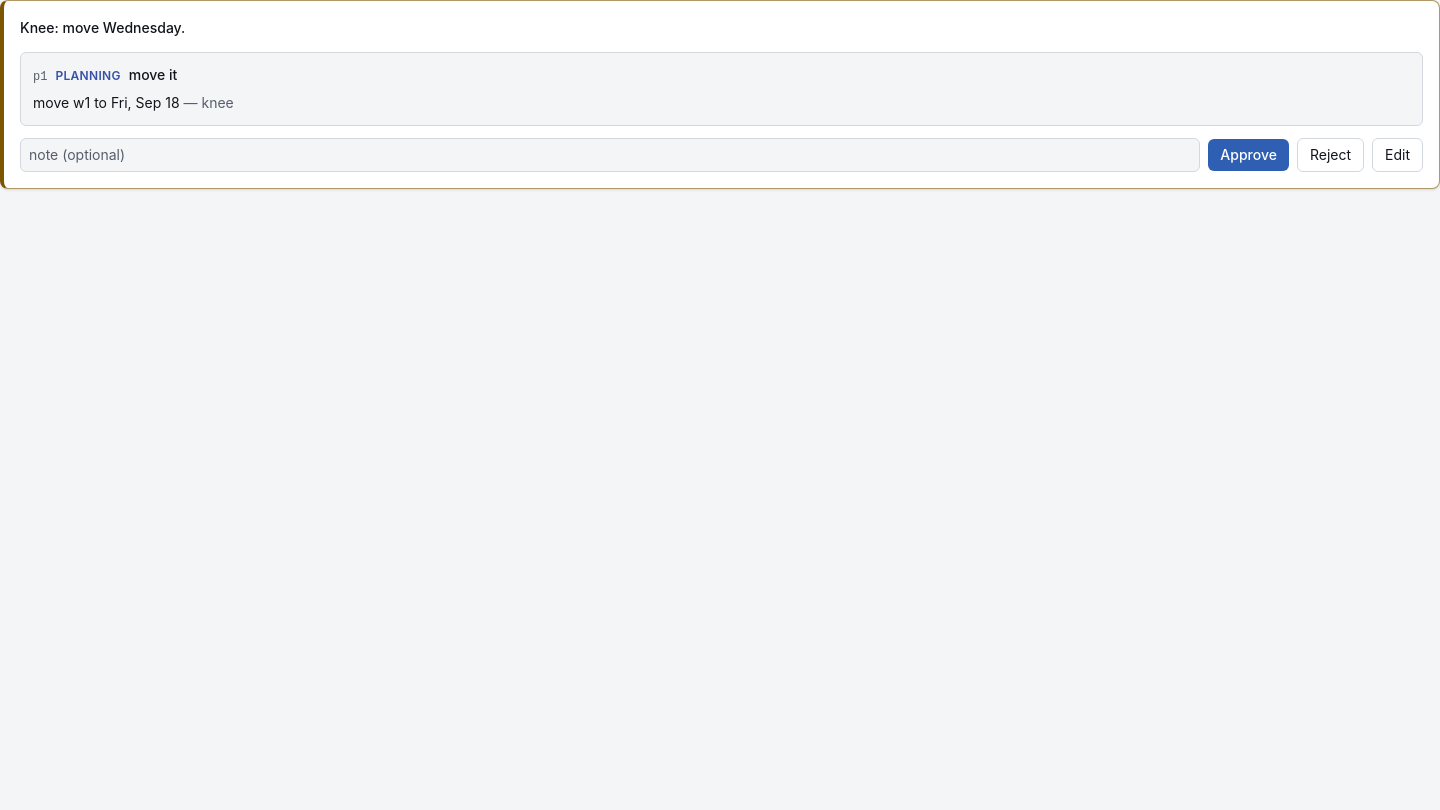
Scenario: a 422 on Send edited shows the server's errors under the matching field and the refusal
What coordinates should you click on to do the following:
click the button "Edit"
I would click on:
 (1398, 155)
Its box is [1372,138,1423,172].
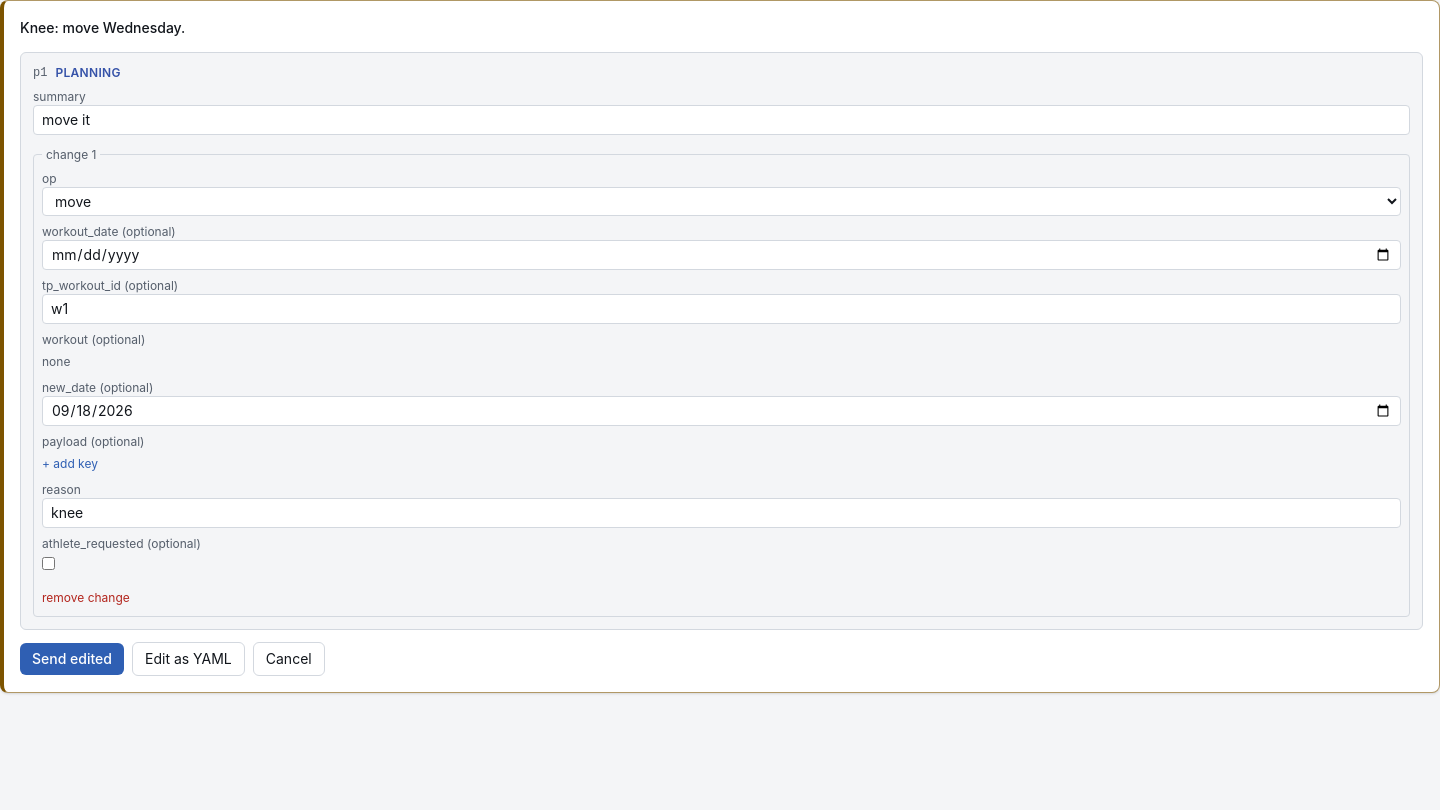
What coordinates should you click on to do the following:
click the button "Send edited"
I would click on:
 (72, 659)
Its box is [20,643,124,675].
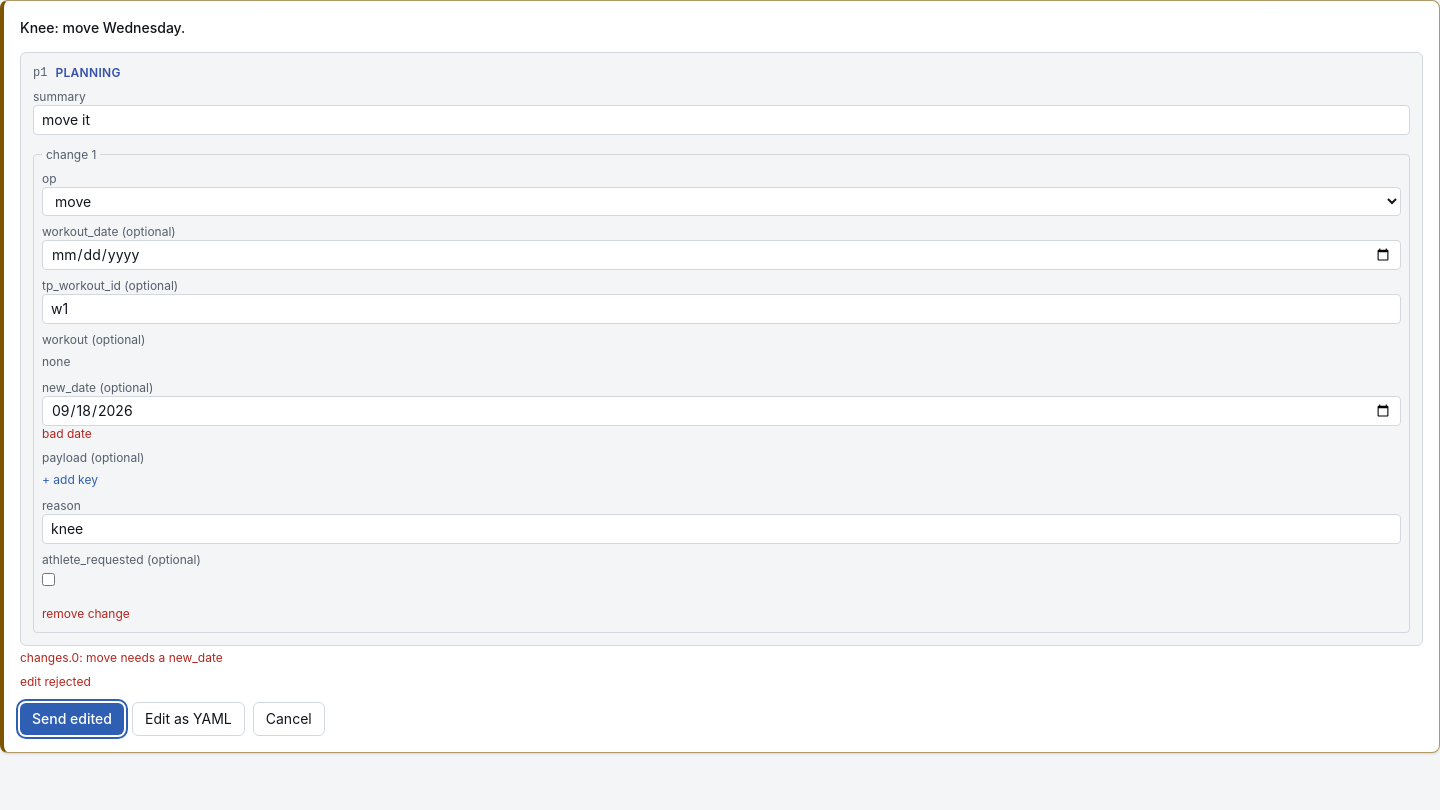
Now the text "edit rejected" is shown, box [20,674,91,689]
Now the list item "changes.0: move needs a new_date" is shown, box [20,650,223,665]
